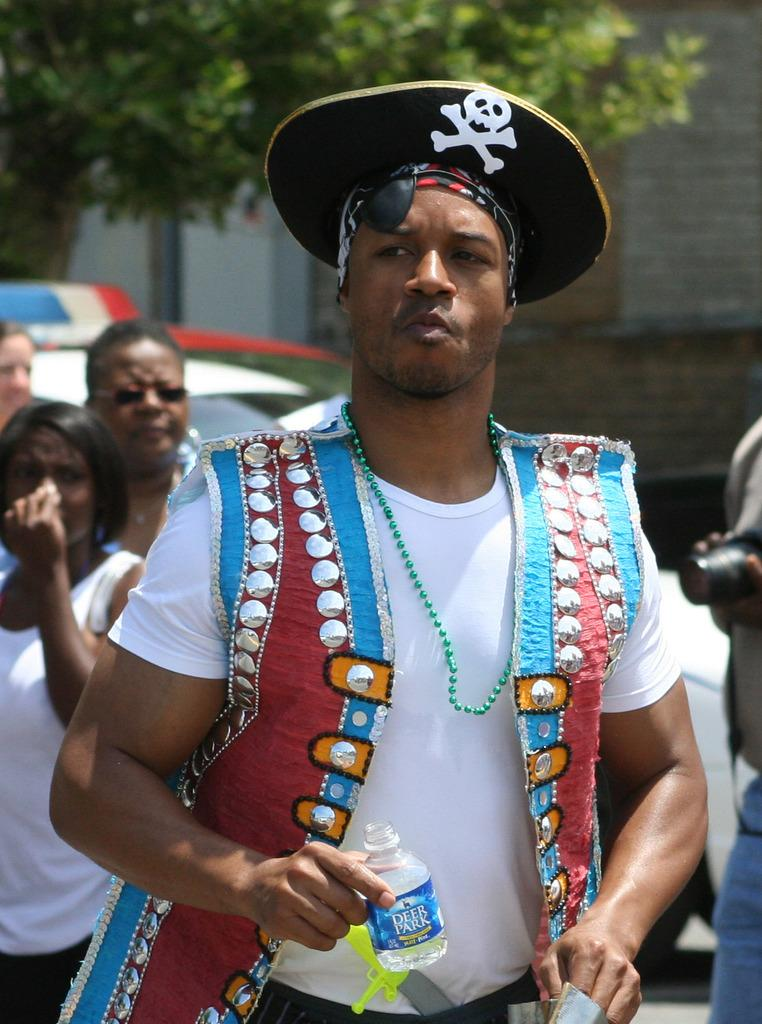Hat: (265, 80, 611, 304)
